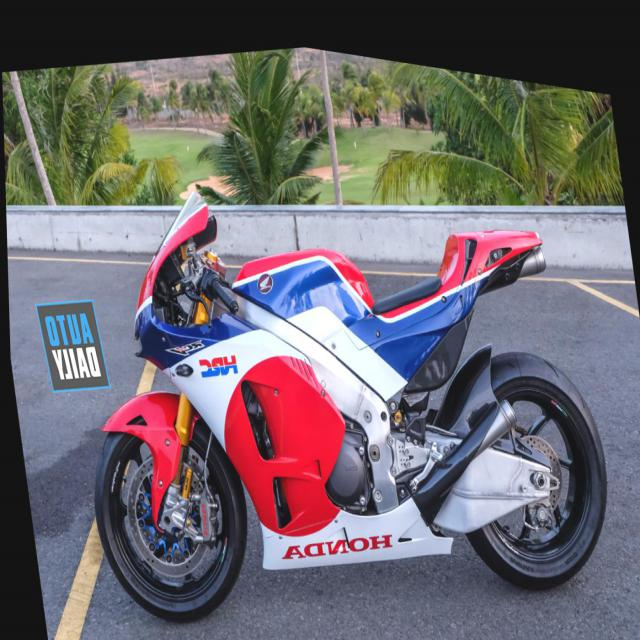HRC RCV 213: (46, 74, 624, 639)
